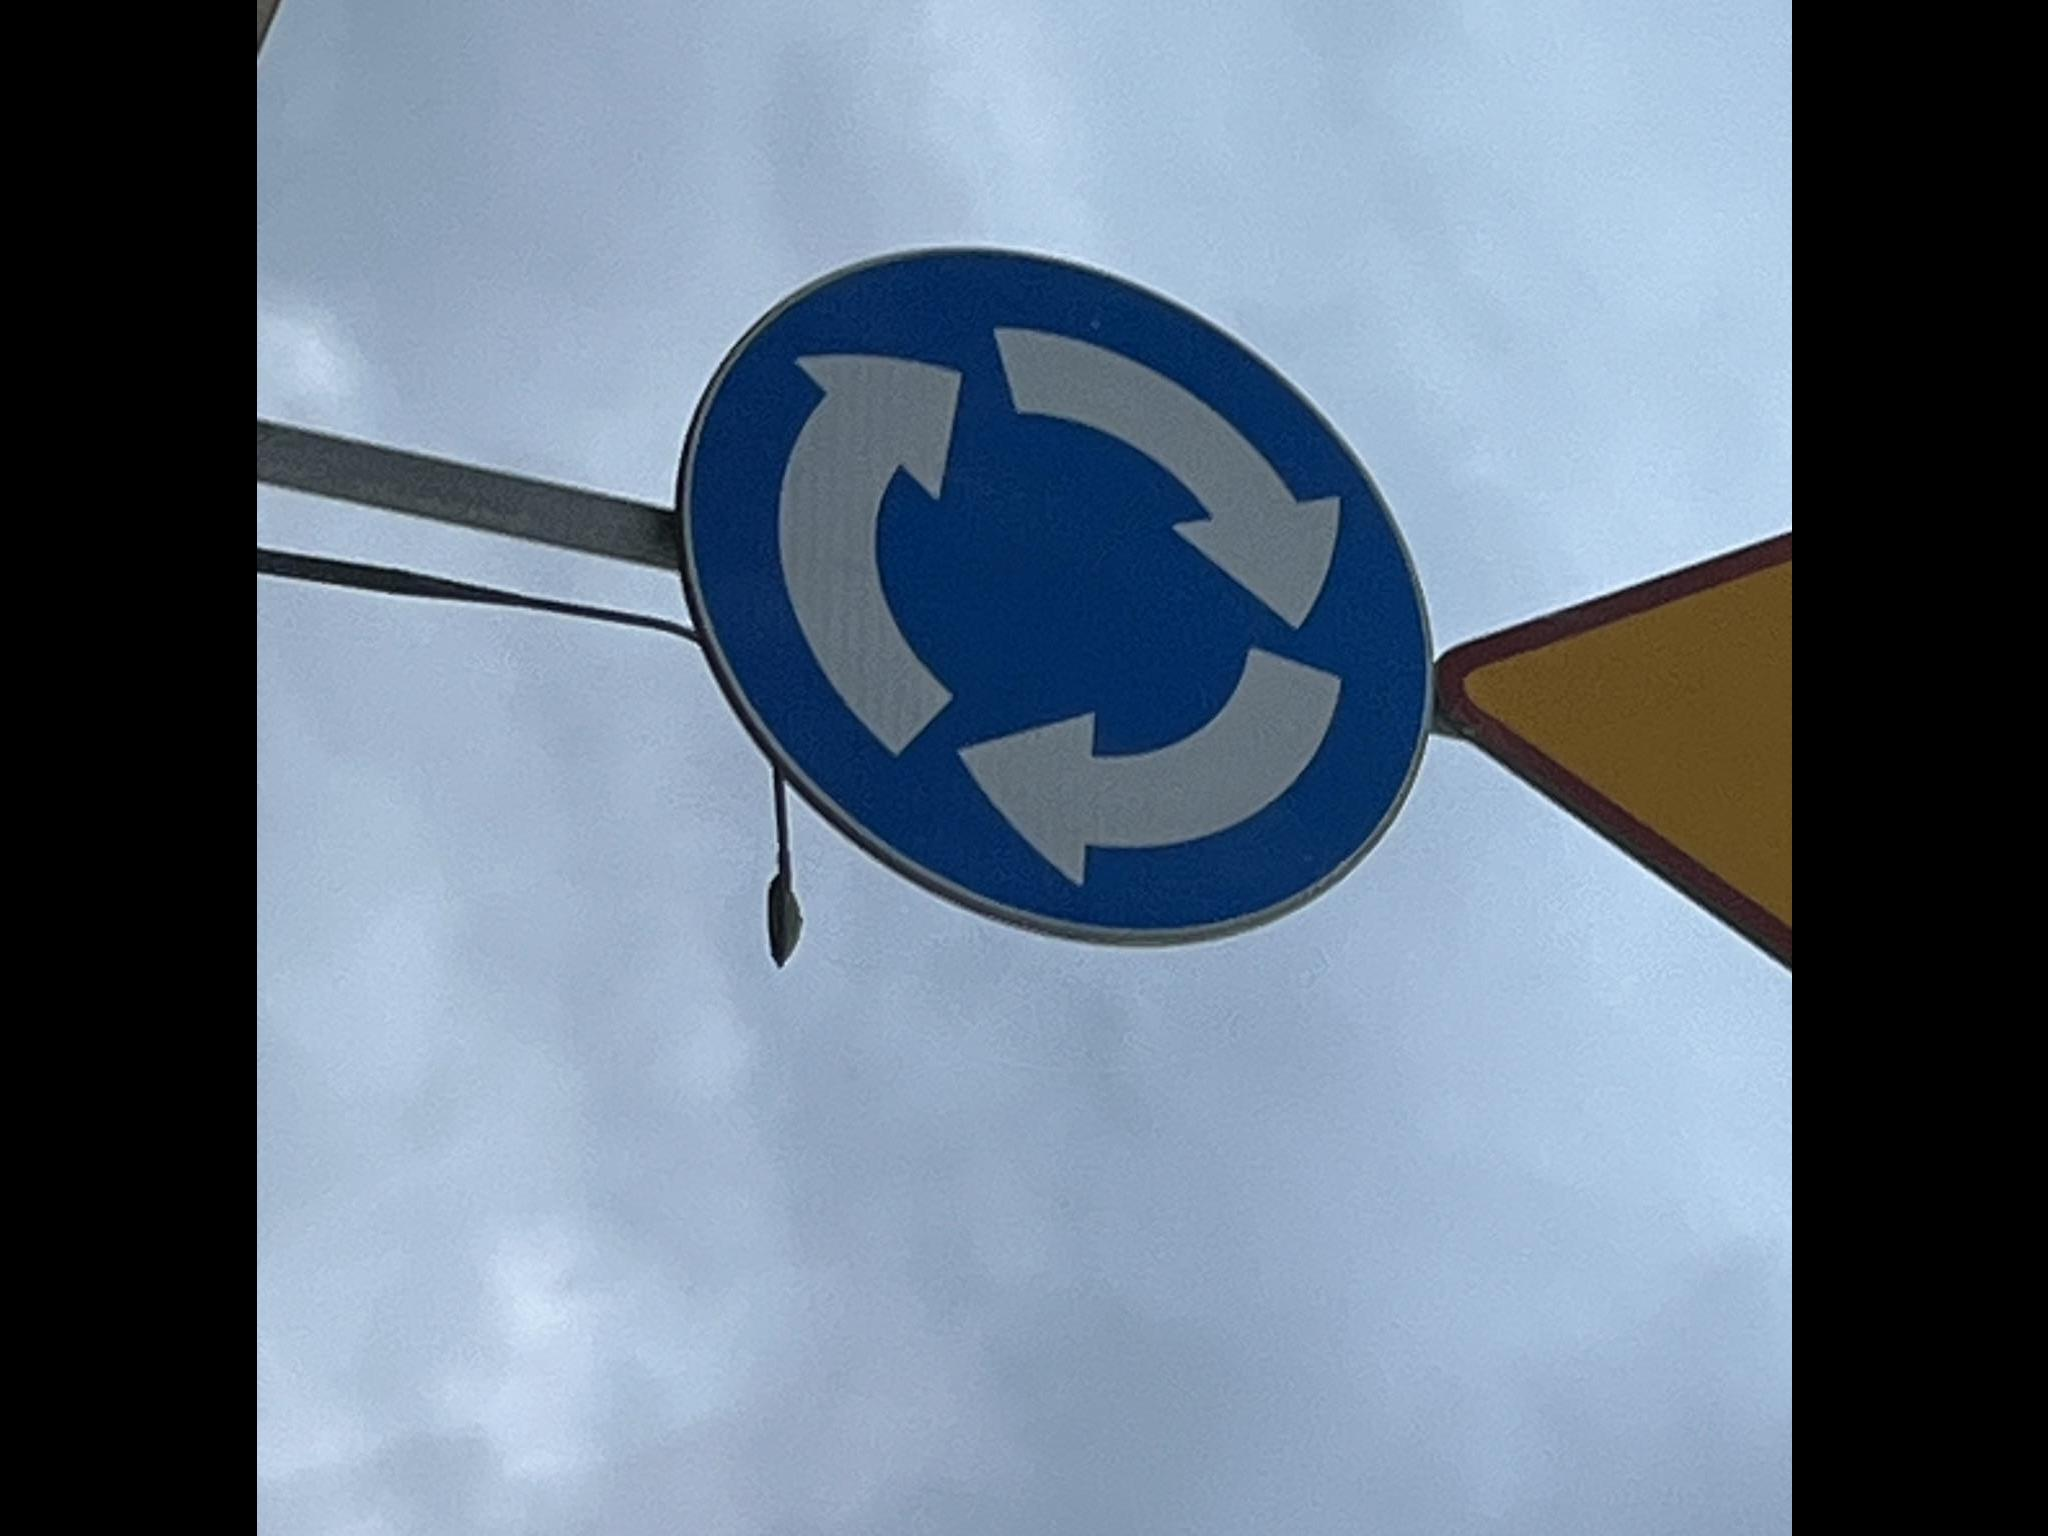mandatory: (669, 245, 1440, 949)
warning: (1434, 529, 1792, 976)
